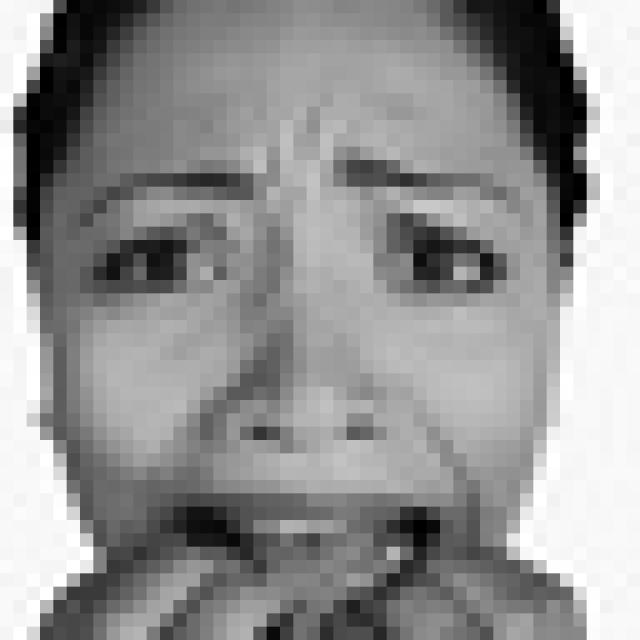fear: (63, 134, 522, 620)
